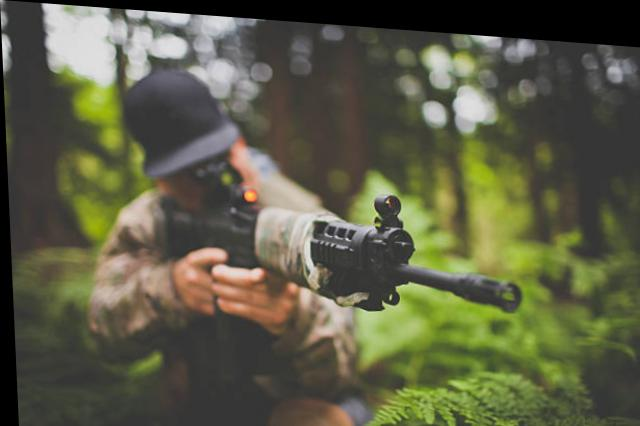other: (79, 68, 354, 424)
